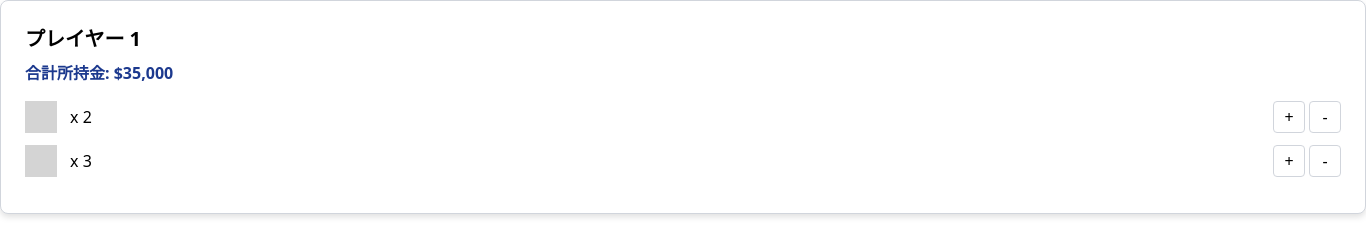
PlayerBoard › プレイヤー名を編集して保存できる
Click the text "プレイヤー 1": (83, 38) [25,25,141,52]
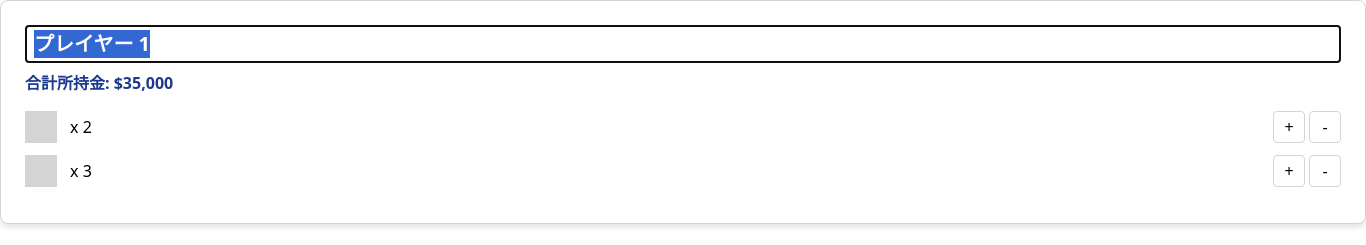
Replace the text in the field with "テストプレイヤー": (683, 44) [25,25,1341,63]
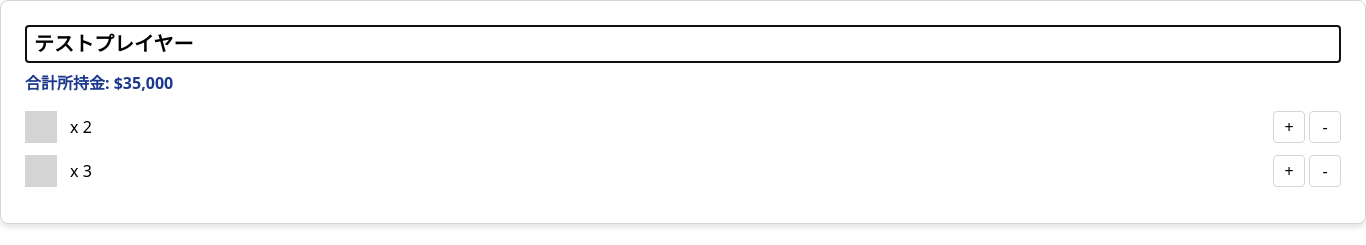
Leave the field, box [25,25,1341,63]
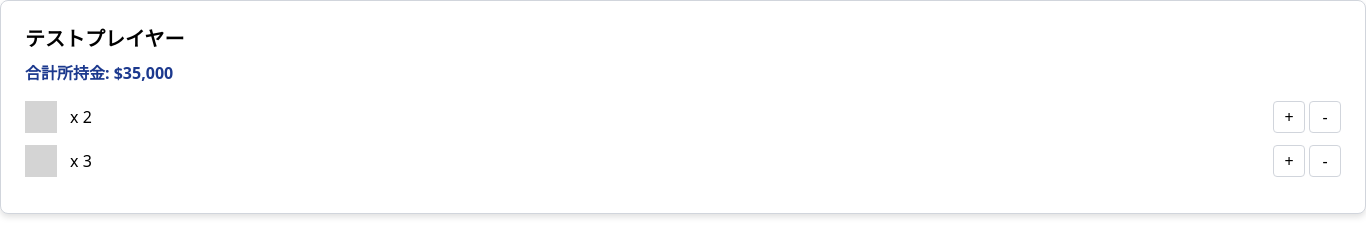
expect the text "テストプレイヤー" is shown: met, box [25,25,184,52]
